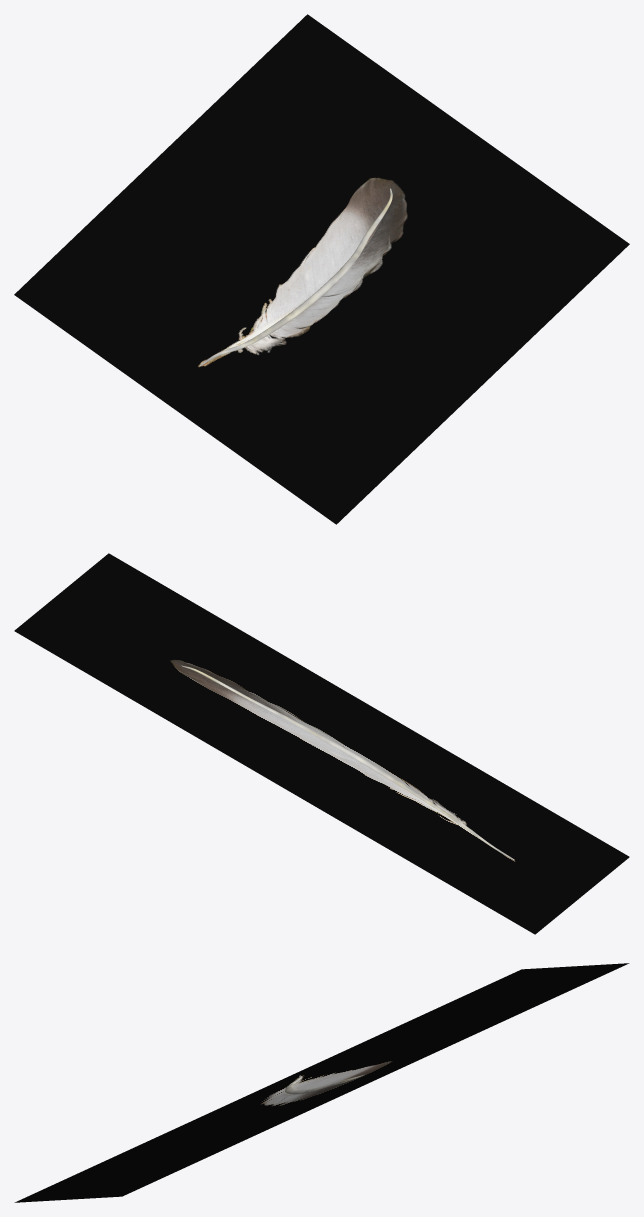
The model's file is Feather.glb.
3 renders of one model, top to bottom at view 1: azimuth 30°, elevation 25°; view 2: azimuth 150°, elevation 25°; view 3: azimuth 270°, elevation 25°, orthographic. The views are drawn at different scales.
Parts seen in each view (by area): view 1: Object_7, Object_5; view 2: Object_7, Object_5; view 3: Object_7, Object_5.
Boxes of the visible parts, x1,y1,x2,y2 form: Object_7: (14,14,629,524); Object_5: (199,188,392,366); Object_7: (14,553,629,934); Object_5: (181,665,514,860); Object_7: (14,963,629,1202); Object_5: (285,1074,364,1094).
Bounding box in the file's own units: 1.55 × 0.918 × 1.38.
Materials: 2 (2 with a texture image).
